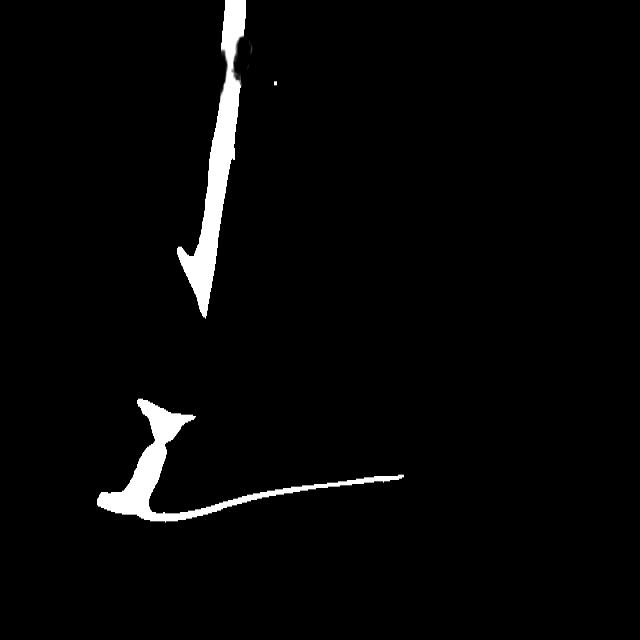sl: (209, 22, 258, 103)
